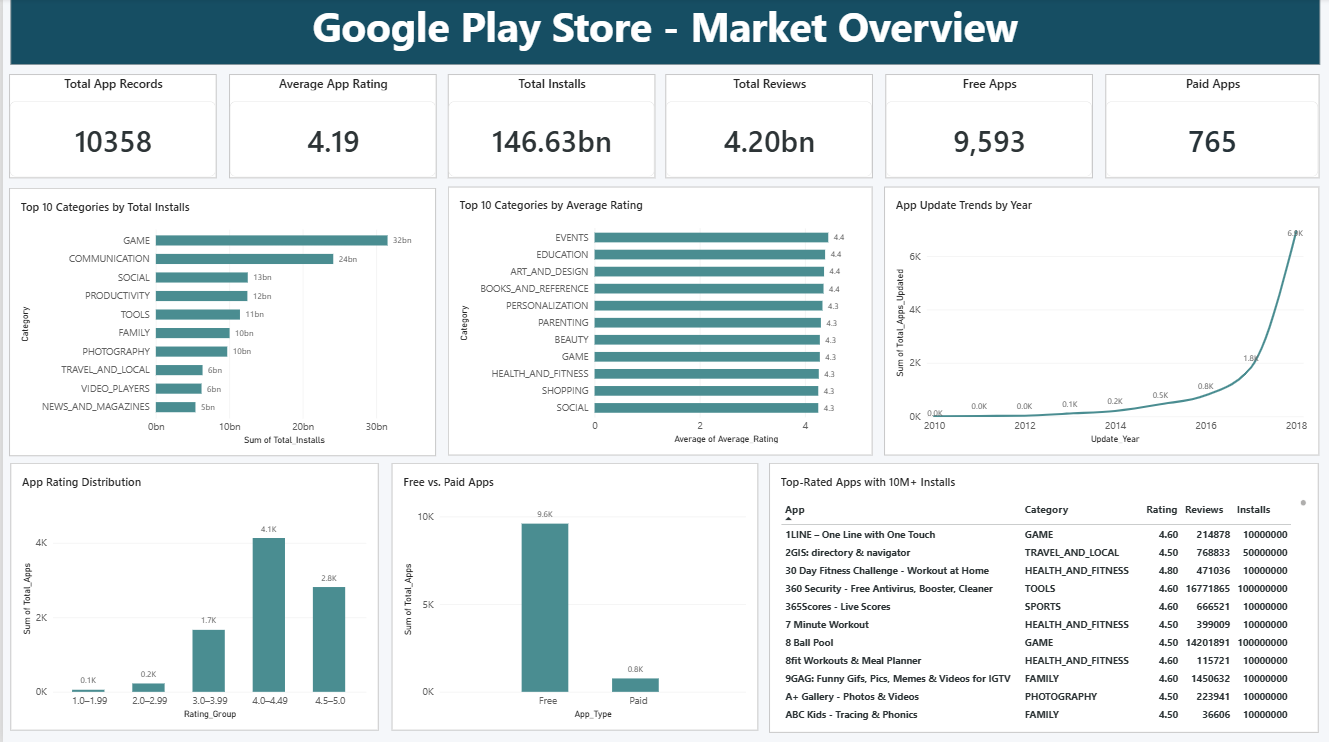

The page's visual inventory and layout, read from the dashboard file:
{"tool":"powerbi","page":{"name":"Overview","canvas":[1920,1080],"ordinal":0},"visuals":[{"type":"textbox","box":[10.3,0,1895.7,96.7],"z":0},{"type":"cardVisual","title":"Total App Records","fields":{"Data":["Sum(google_play_store vw_category_performance.Total_Apps)"]},"box":[9.6,109.6,300,150],"z":1000},{"type":"cardVisual","title":"Average App Rating","fields":{"Data":["apps.Overall Average Rating"]},"box":[326.9,109.6,300,150],"z":2000},{"type":"cardVisual","title":"Total Installs","fields":{"Data":["Sum(google_play_store vw_category_performance.Total_Installs)"]},"box":[644.2,109.6,300,150],"z":3000},{"type":"cardVisual","title":"Total Reviews","fields":{"Data":["Sum(google_play_store vw_category_performance.Total_Reviews)"]},"box":[959.6,109.6,300,150],"z":4000},{"type":"cardVisual","title":"Free Apps","fields":{"Data":["Sum(google_play_store vw_category_performance.Free_Apps)"]},"box":[1276.9,109.6,300,150],"z":5000},{"type":"cardVisual","title":"Paid Apps","fields":{"Data":["Sum(google_play_store vw_category_performance.Paid_Apps)"]},"box":[1596.2,109.6,309.6,150],"z":6000},{"type":"clusteredBarChart","title":"Top 10 Categories by Total Installs","fields":{"Category":["google_play_store vw_category_performance.Category"],"Y":["Sum(google_play_store vw_category_performance.Total_Installs)"]},"box":[9.8,274.5,617.6,388.2],"z":7000},{"type":"clusteredBarChart","title":"Top 10 Categories by Average Rating","fields":{"Category":["google_play_store vw_category_performance.Category"],"Y":["Avg(google_play_store vw_category_performance.Average_Rating)"]},"box":[644.8,273.5,614.4,388.6],"z":8000},{"type":"clusteredColumnChart","title":"Free vs. Paid Apps","fields":{"Category":["google_play_store vw_free_vs_paid.App_Type"],"Y":["Sum(google_play_store vw_free_vs_paid.Total_Apps)"]},"box":[562.5,672.5,530,387.5],"z":9000},{"type":"clusteredColumnChart","title":"App Rating Distribution","fields":{"Category":["google_play_store vw_rating_distribution.Rating_Group"],"Y":["Sum(google_play_store vw_rating_distribution.Total_Apps)"]},"box":[10,672.5,532.5,387.5],"z":10000},{"type":"lineChart","title":"App Update Trends by Year","fields":{"Category":["google_play_store vw_app_update_trends.Update_Year"],"Y":["Sum(google_play_store vw_app_update_trends.Total_Apps_Updated)"]},"box":[1276.5,273.5,629.6,388.6],"z":11000},{"type":"tableEx","title":"Top-Rated Apps with 10M+ Installs","fields":{"Values":["google_play_store vw_top_performing_apps.App","google_play_store vw_top_performing_apps.Category","google_play_store vw_top_performing_apps.Rating","google_play_store vw_top_performing_apps.Reviews","google_play_store vw_top_performing_apps.Installs"]},"box":[1110,672.5,795,390],"z":12000}]}

Visuals, with their boxes in screenshot pixels (x1, y1, x2, y2), scaled from the page's 1920x1080 canvas onto the 1329x742 screenshot:
textbox: {"x1": 7, "y1": 0, "x2": 1319, "y2": 66}
"Total App Records" cardVisual: {"x1": 7, "y1": 75, "x2": 214, "y2": 178}
"Average App Rating" cardVisual: {"x1": 226, "y1": 75, "x2": 434, "y2": 178}
"Total Installs" cardVisual: {"x1": 446, "y1": 75, "x2": 654, "y2": 178}
"Total Reviews" cardVisual: {"x1": 664, "y1": 75, "x2": 872, "y2": 178}
"Free Apps" cardVisual: {"x1": 884, "y1": 75, "x2": 1092, "y2": 178}
"Paid Apps" cardVisual: {"x1": 1105, "y1": 75, "x2": 1319, "y2": 178}
"Top 10 Categories by Total Installs" clusteredBarChart: {"x1": 7, "y1": 189, "x2": 434, "y2": 455}
"Top 10 Categories by Average Rating" clusteredBarChart: {"x1": 446, "y1": 188, "x2": 872, "y2": 455}
"Free vs. Paid Apps" clusteredColumnChart: {"x1": 389, "y1": 462, "x2": 756, "y2": 728}
"App Rating Distribution" clusteredColumnChart: {"x1": 7, "y1": 462, "x2": 376, "y2": 728}
"App Update Trends by Year" lineChart: {"x1": 884, "y1": 188, "x2": 1319, "y2": 455}
"Top-Rated Apps with 10M+ Installs" tableEx: {"x1": 768, "y1": 462, "x2": 1319, "y2": 730}
